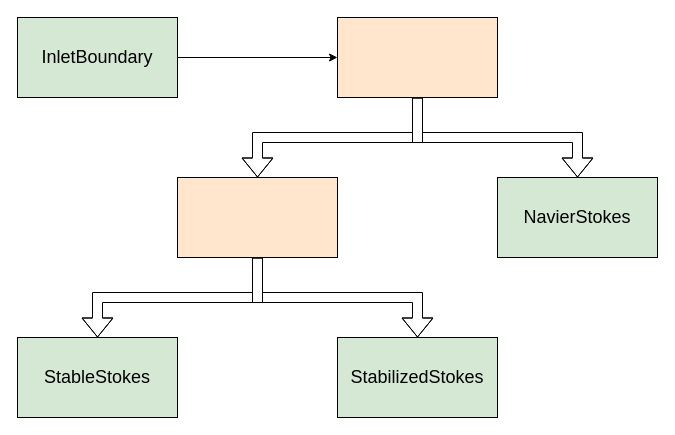
Some shapes in this 675 by 435 pixel diagram are drawn without their labels. The shapes that lost their labels are listed below. From the top down, each one's box as (x1, y1, x2, y2) in pixels, then its label:
(336, 16, 498, 98): CommonCFD
(176, 176, 338, 258): BaseStokes
